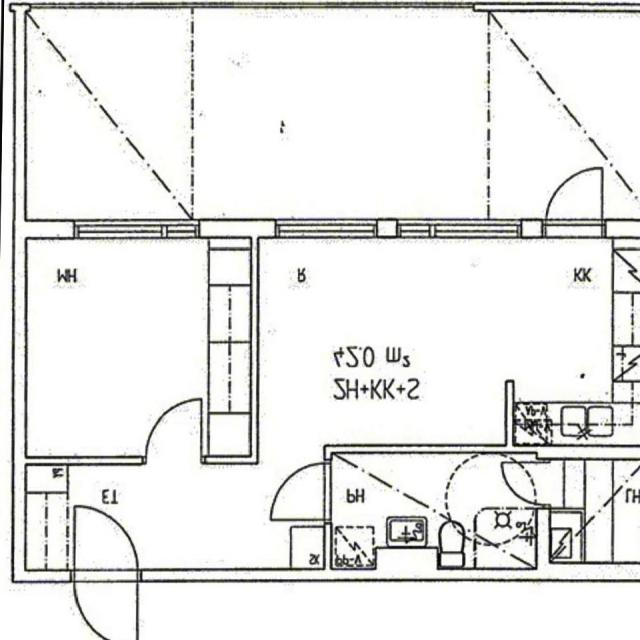door: (75, 504, 138, 582), (75, 570, 138, 640), (146, 397, 203, 465), (271, 464, 332, 520), (496, 462, 550, 504)
